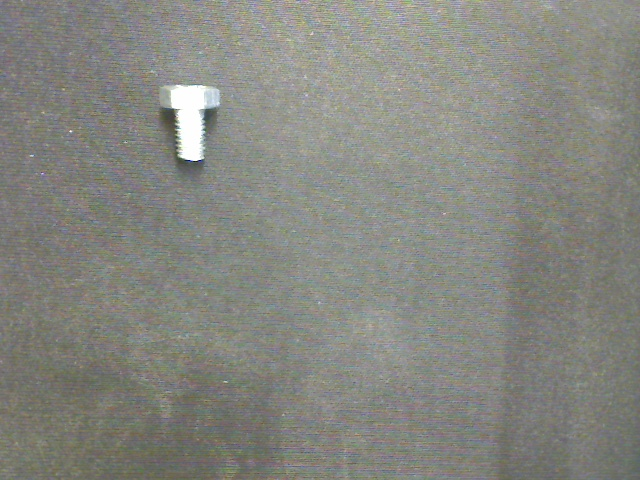screw: (158, 85, 221, 162)
